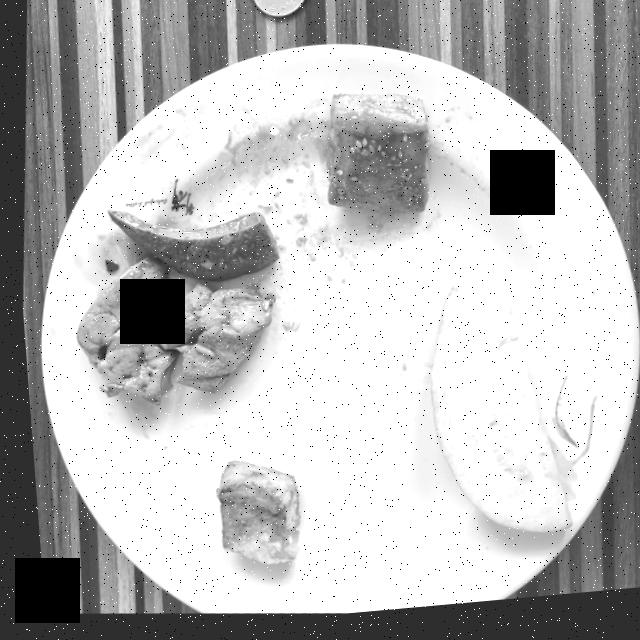coin: (252, 0, 305, 20)
creamy tofu: (324, 98, 425, 218)
fried potato: (208, 464, 292, 567)
guava -sliced-: (424, 290, 562, 541)
pig liver: (71, 211, 273, 405)
